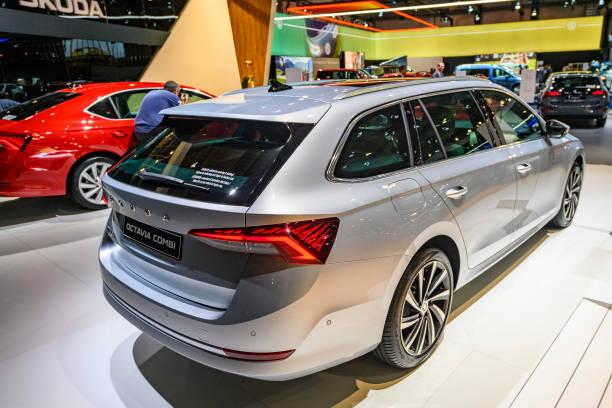skoda: (106, 192, 181, 228)
